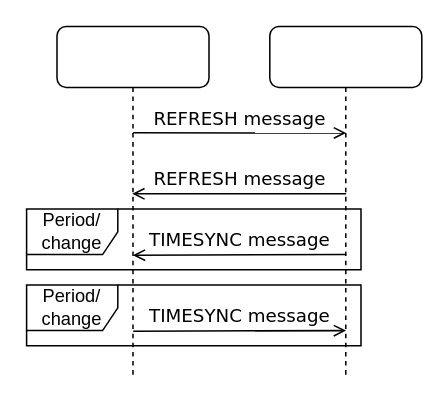
Some shapes in this 448 by 403 pixel diagram are drawn without their labels. Here are the shapes that lost their labels. From the top down, the box of each, then its label:
(55, 25, 209, 376): node1:EXNode
(268, 25, 422, 376): node2:EXNode
